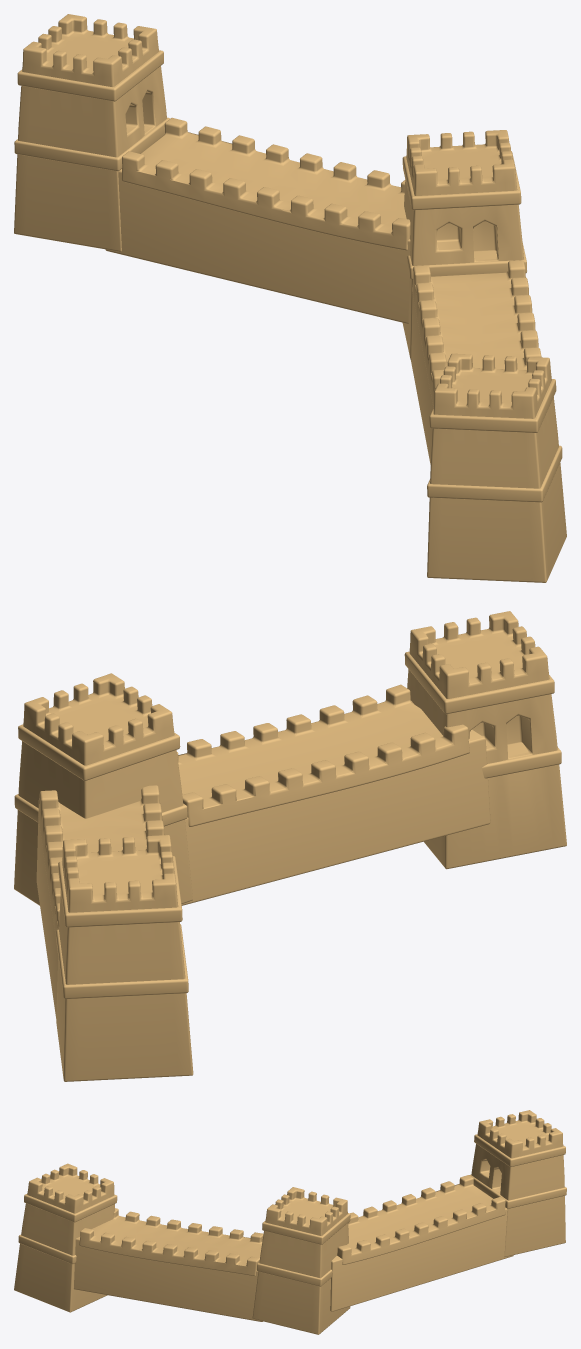
The model's file is TheGreateWall.fbx.
The picture shows the model from 3 angles, top to bottom: view 1: azimuth 30°, elevation 25°; view 2: azimuth 150°, elevation 25°; view 3: azimuth 270°, elevation 25°; orthographic projection. The views are drawn at different scales.
Parts seen in each view (by area): view 1: Cube.001_Cube.017; view 2: Cube.001_Cube.017; view 3: Cube.001_Cube.017.
Boxes of the visible parts, x1,y1,x2,y2 form: Cube.001_Cube.017: (14,14,566,582); Cube.001_Cube.017: (14,611,566,1081); Cube.001_Cube.017: (14,1110,566,1334).
Size of the model in its own units: 334 by 246 by 779.
